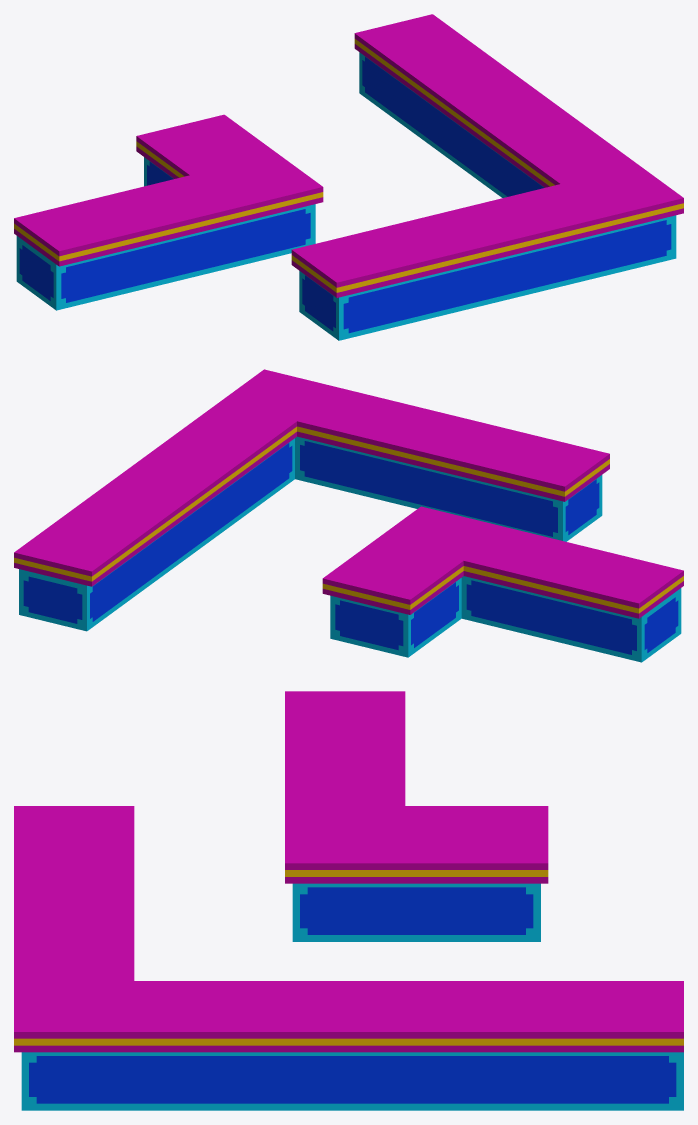
The model's file is level_1.4.obj.
3 views of the same model, one above another, from view 1: azimuth 30°, elevation 25°; view 2: azimuth 150°, elevation 25°; view 3: azimuth 270°, elevation 25° (orthographic). The views are drawn at different scales.
Size of the model in its own units: 10.7 by 1.2 by 8.9.
Materials: 1 (1 with a texture image).
